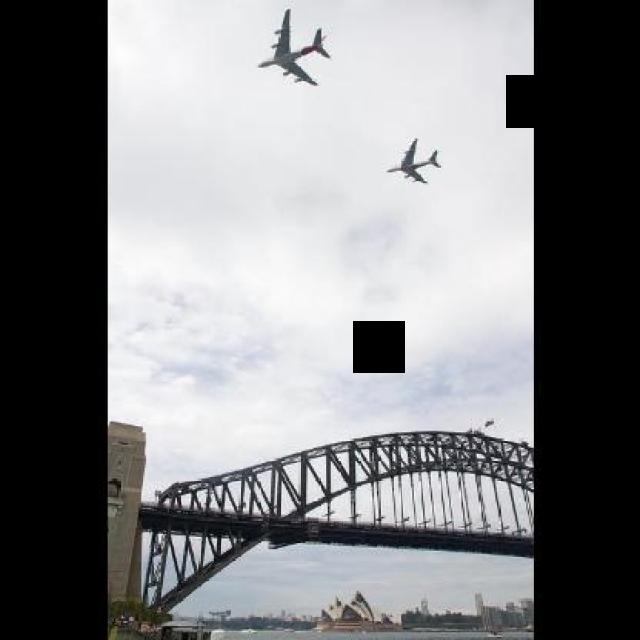unauthorized: (257, 7, 331, 84)
